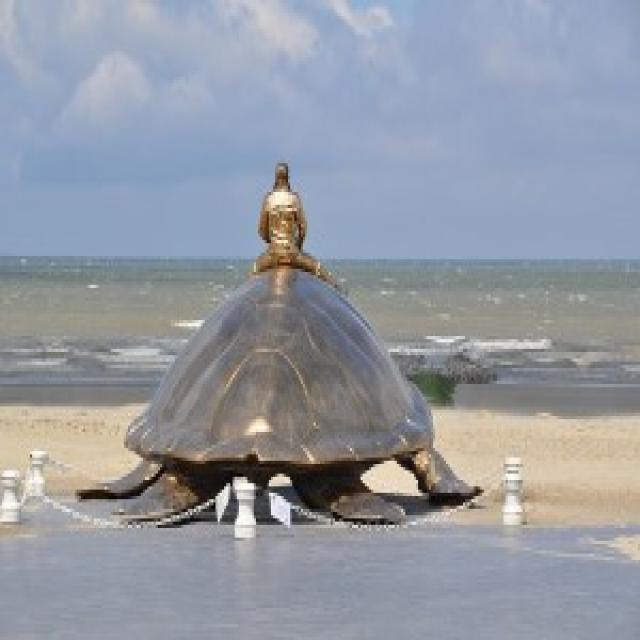Sea turtle: (90, 283, 485, 546)
